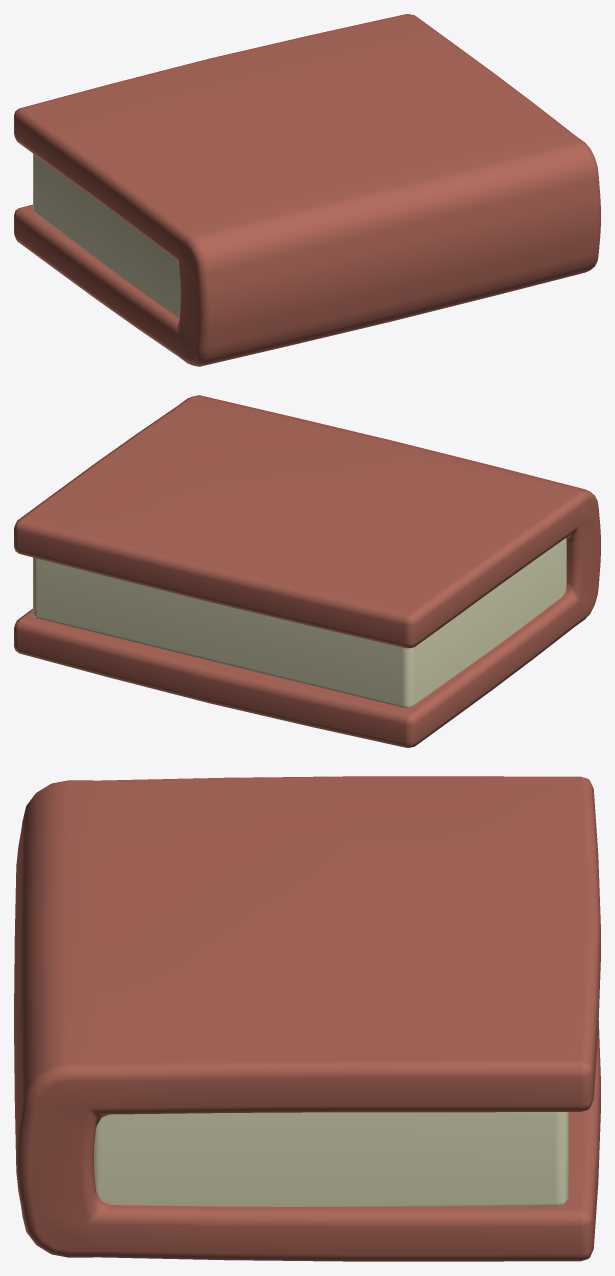
The model's file is SM_Book_01.fbx.
3 views of the same model, one above another, from view 1: azimuth 30°, elevation 25°; view 2: azimuth 150°, elevation 25°; view 3: azimuth 270°, elevation 25° (orthographic). The views are drawn at different scales.
Visible parts, largest first — view 1: Cube.018; view 2: Cube.018; view 3: Cube.018.
Boxes of the visible parts, x1,y1,x2,y2 form: Cube.018: [14, 14, 600, 366]; Cube.018: [14, 395, 600, 747]; Cube.018: [14, 776, 600, 1261].
Bounding box in the file's own units: 52.98 × 17.12 × 44.61.
